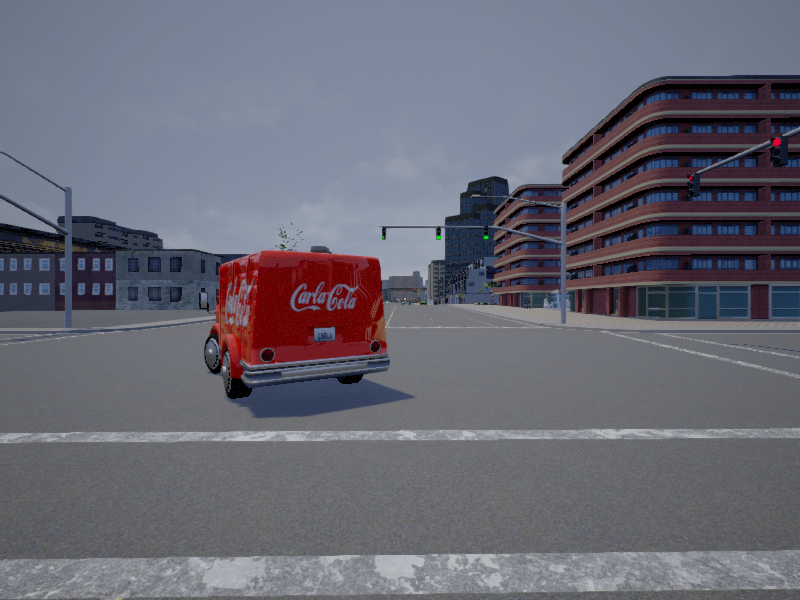Benign: (200, 255, 389, 402)
